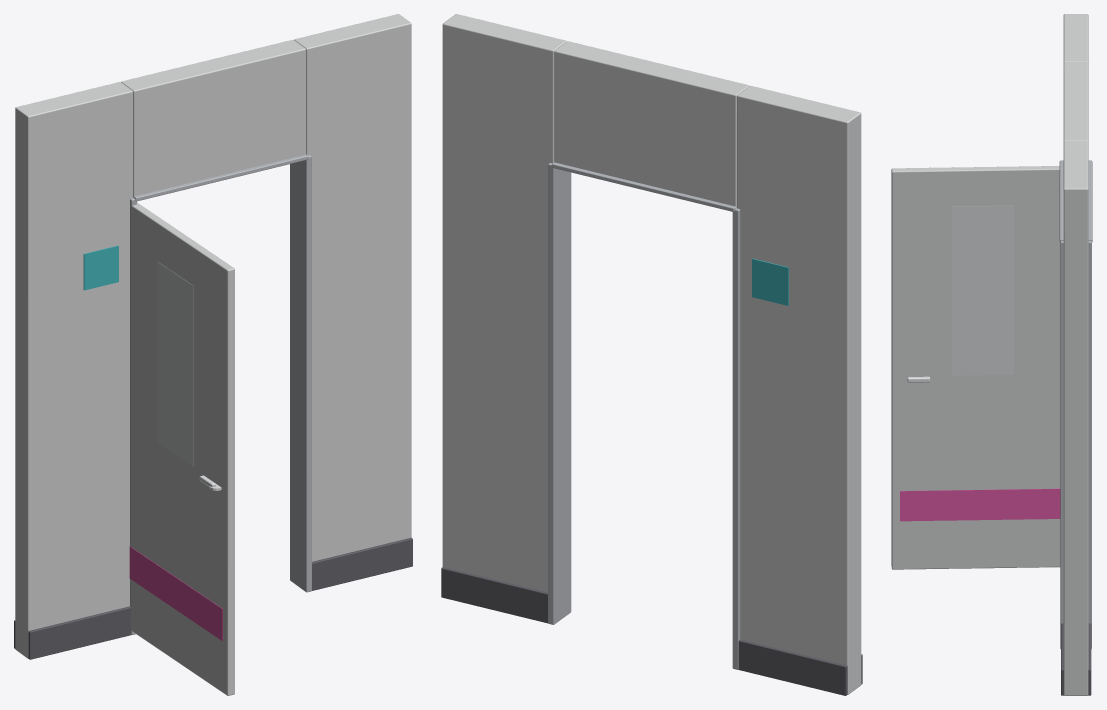
Rendered from tattoo-and-piercing-studio-studio-door-module-open-ddfa1882__34562.glb.
The picture shows the model from 3 angles, left to right: view 1: azimuth 30°, elevation 25°; view 2: azimuth 150°, elevation 25°; view 3: azimuth 270°, elevation 25°; orthographic projection. The views are drawn at different scales.
Parts seen in each view (by area): view 1: studio-door-module-open, door-studio (×3); view 2: studio-door-module-open; view 3: door-studio (×3), studio-door-module-open.
Part boxes in pixels (left/top/right/bottom): studio-door-module-open: left=14, top=14, right=412, bottom=659; door-studio (×3): left=129, top=202, right=234, bottom=695; studio-door-module-open: left=441, top=14, right=862, bottom=695; door-studio (×3): left=891, top=166, right=1060, bottom=569; studio-door-module-open: left=1059, top=14, right=1092, bottom=695.
Size of the model in its own units: 2 by 2.7 by 0.969.
